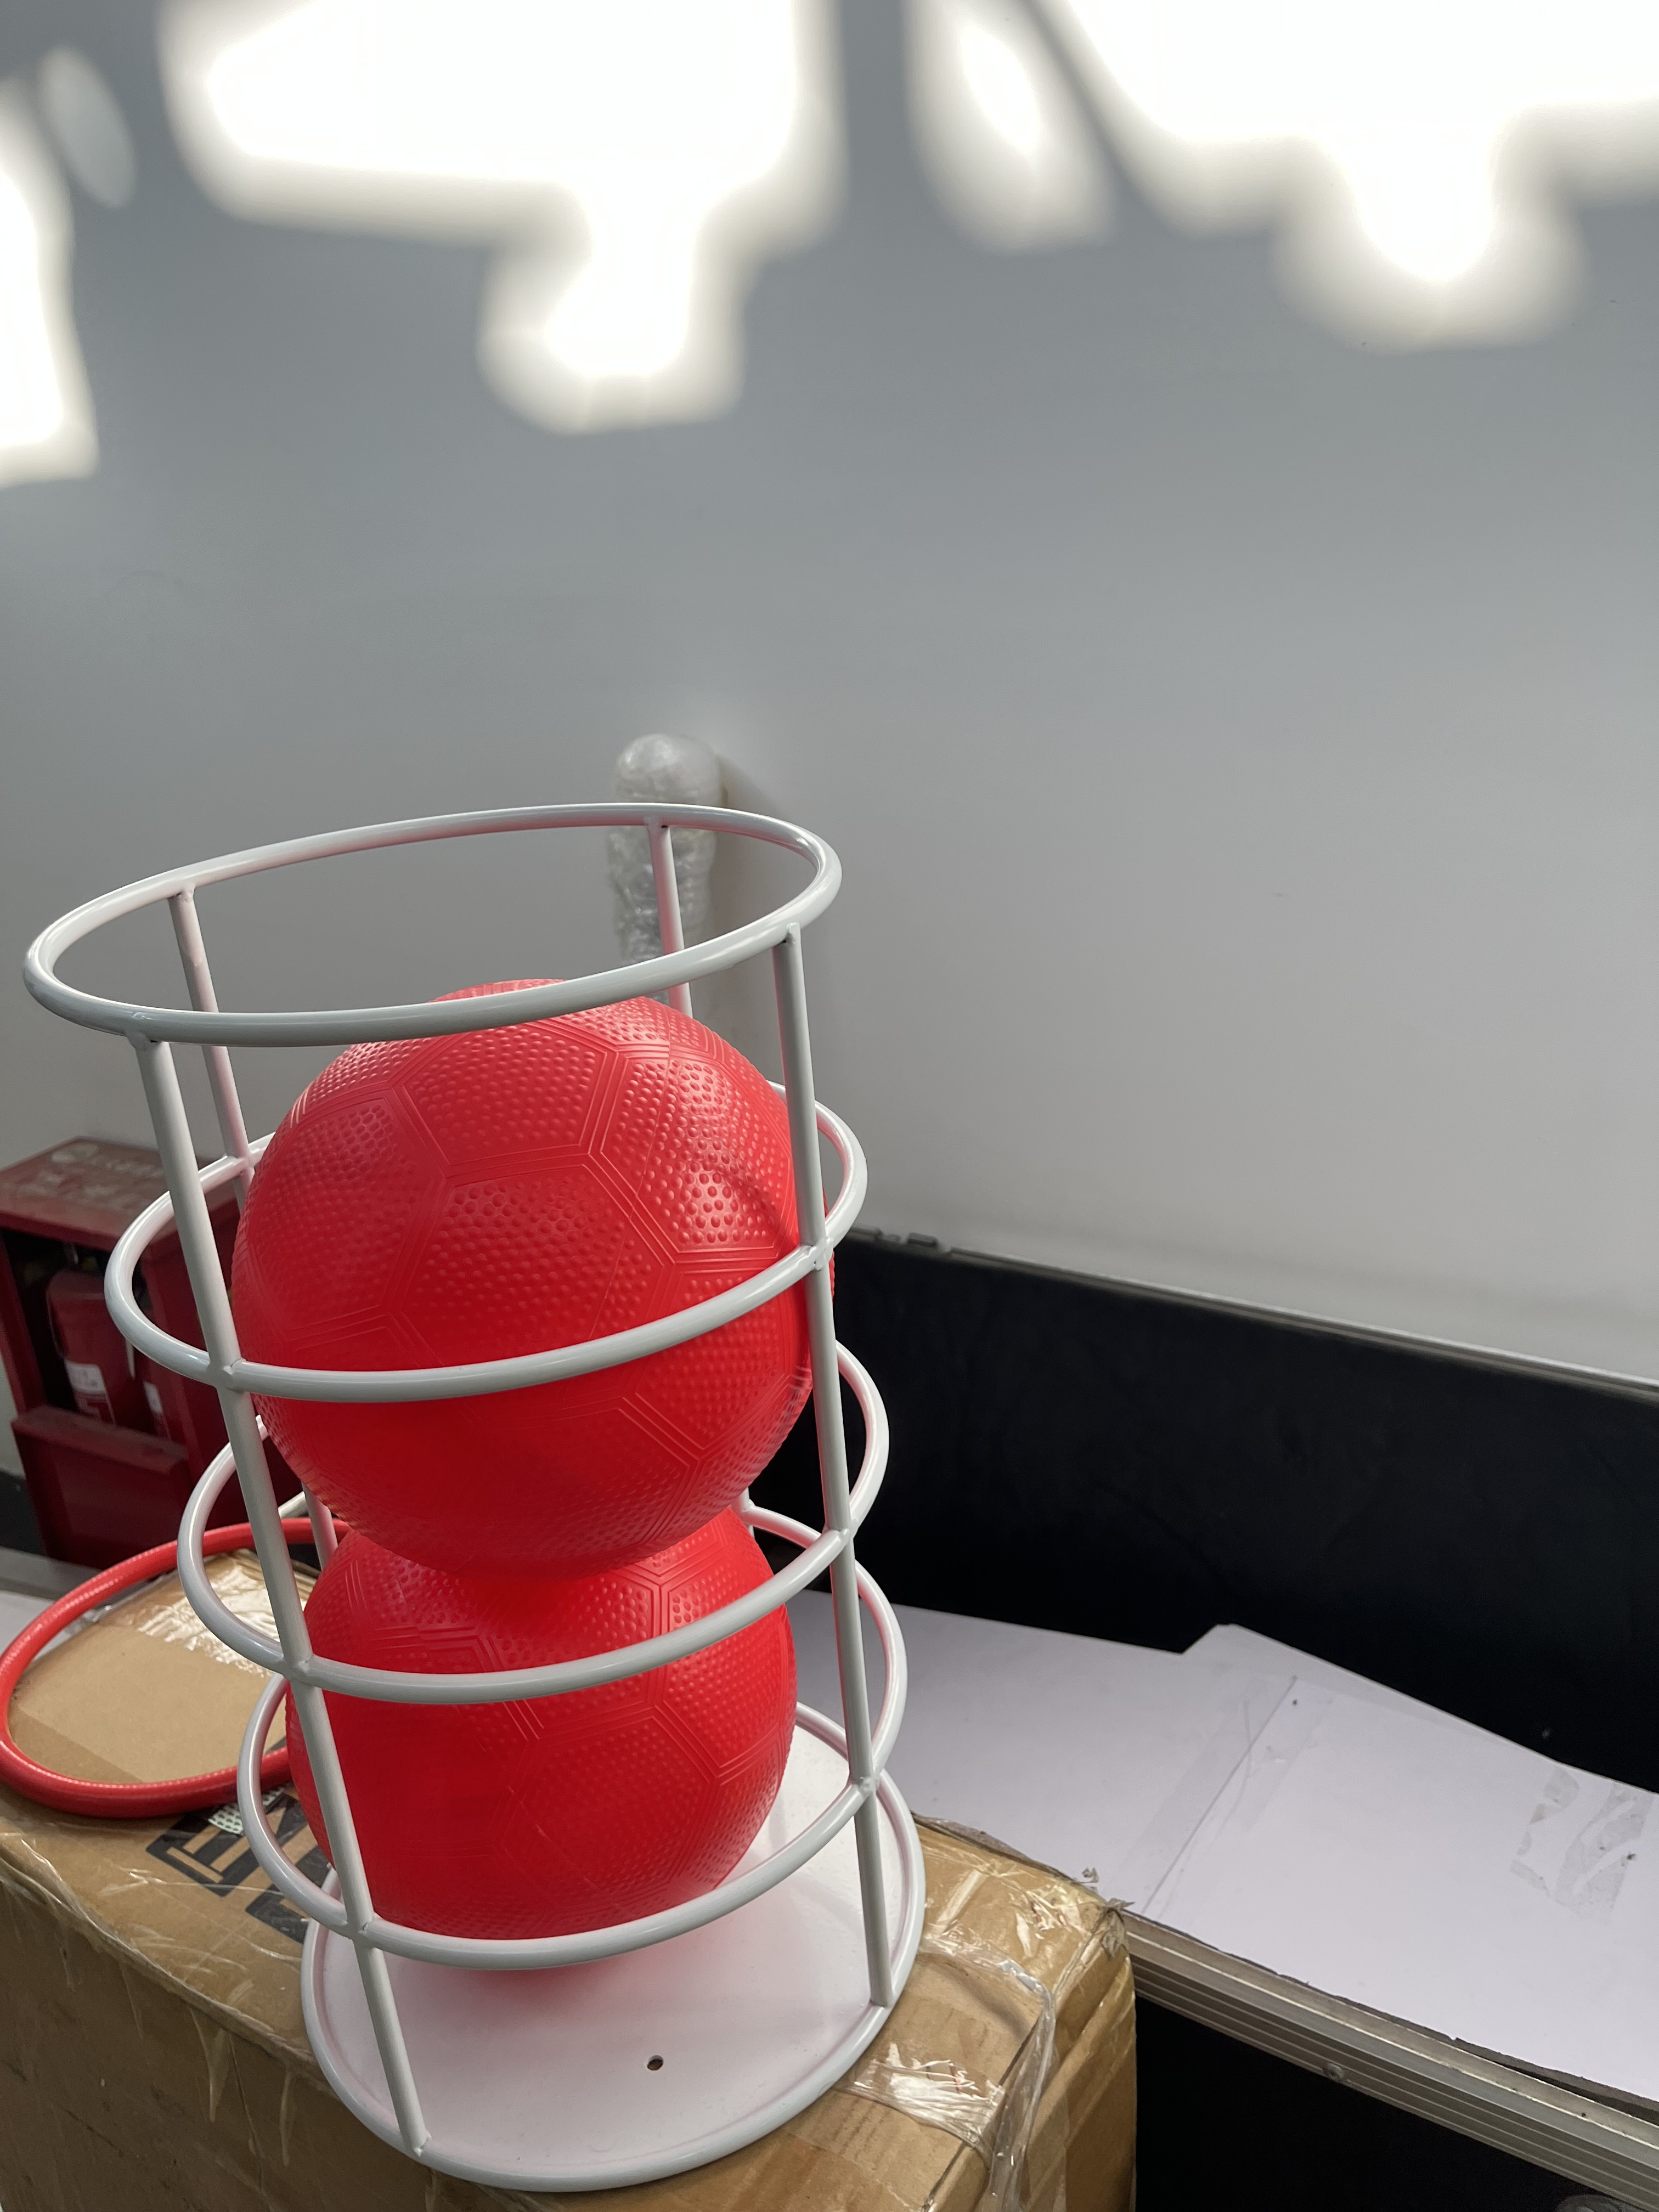blacket: (14, 789, 953, 2202)
red: (221, 982, 836, 1622), (277, 1487, 810, 1982)
